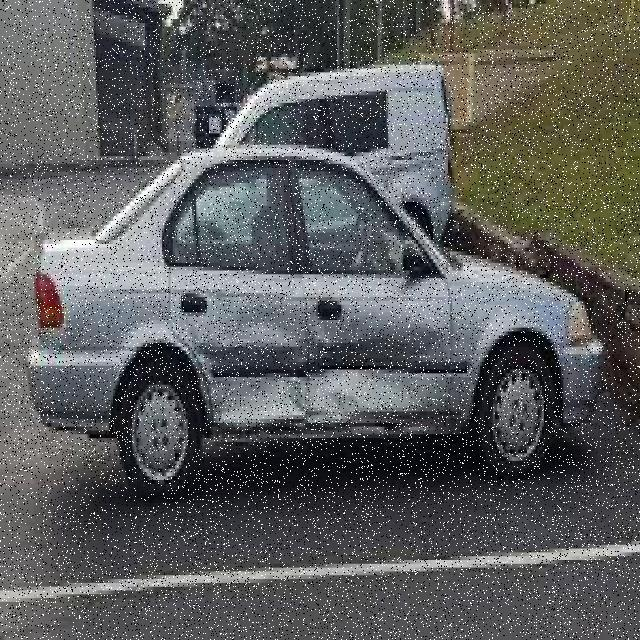RunningBoard-Dent: (311, 411, 448, 442), (206, 422, 312, 450)
doorouter-dent: (307, 263, 452, 419), (168, 265, 308, 418)
